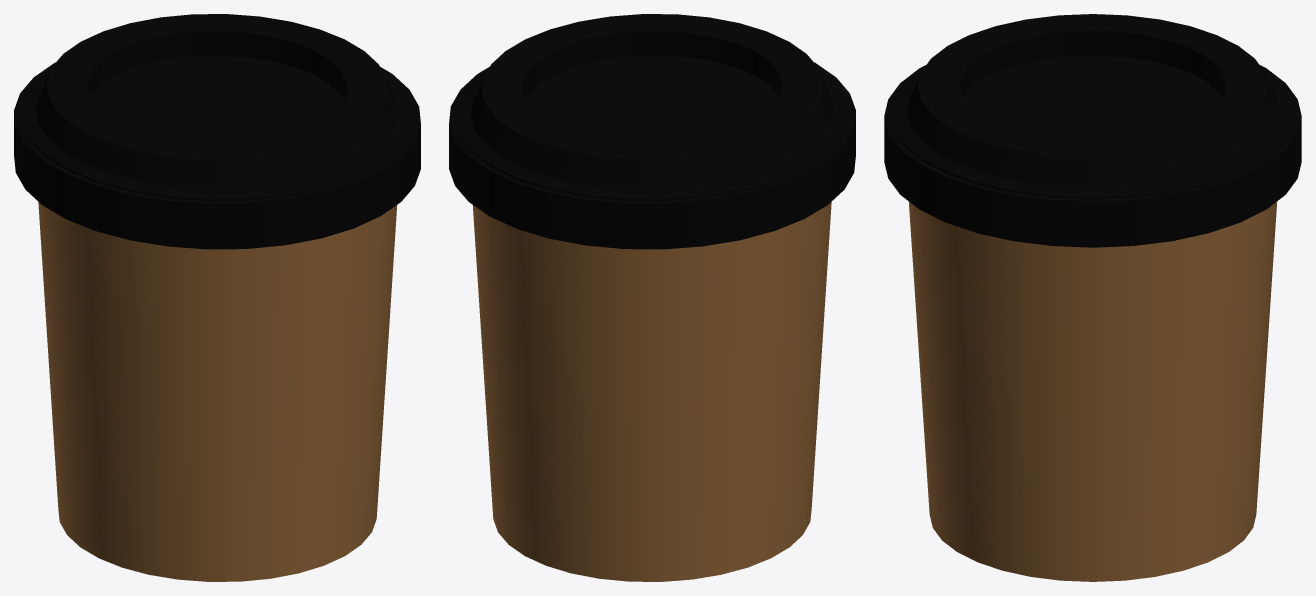
The model's file is CoffeCupToGoCartoony.fbx.
3 views of the same model, side by side, from view 1: azimuth 30°, elevation 25°; view 2: azimuth 150°, elevation 25°; view 3: azimuth 270°, elevation 25° (orthographic).
Visible parts, largest first — view 1: Circle; view 2: Circle; view 3: Circle.
Part boxes in pixels (x1=…): Circle: x1=14, y1=14, x2=420, y2=581; Circle: x1=449, y1=14, x2=855, y2=581; Circle: x1=884, y1=14, x2=1301, y2=581.
Size of the model in its own units: 12.44 by 14.47 by 12.78.
